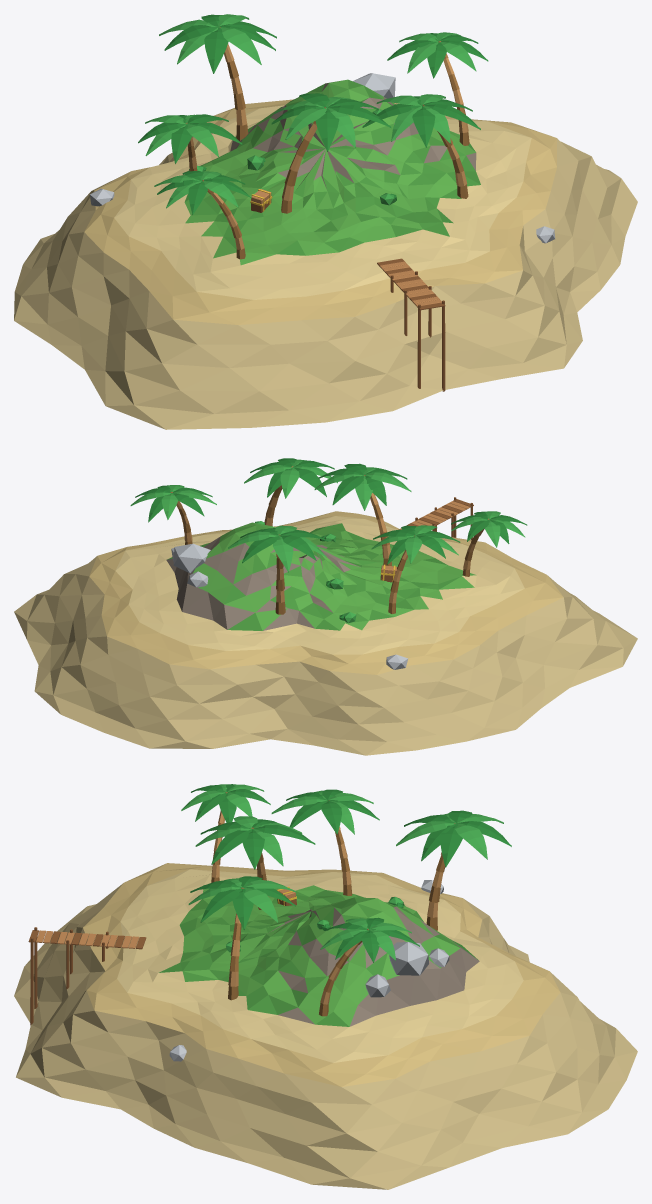
Rendered from Island_Palm.glb.
The picture shows the model from 3 angles, top to bottom: view 1: azimuth 30°, elevation 25°; view 2: azimuth 150°, elevation 25°; view 3: azimuth 270°, elevation 25°; orthographic projection. The views are drawn at different scales.
Visible parts, largest first — view 1: Island_Palm_Land, Island_Palm_Props; view 2: Island_Palm_Land, Island_Palm_Props; view 3: Island_Palm_Land, Island_Palm_Props.
Boxes of the visible parts, x1,y1,x2,y2 form: Island_Palm_Land: [14, 79, 637, 429]; Island_Palm_Props: [89, 14, 555, 391]; Island_Palm_Land: [14, 511, 637, 755]; Island_Palm_Props: [130, 458, 527, 669]; Island_Palm_Land: [14, 863, 637, 1189]; Island_Palm_Props: [28, 784, 511, 1061].
Size of the model in its own units: 57.73 by 18.42 by 51.85.
1 material, 1 textured.
